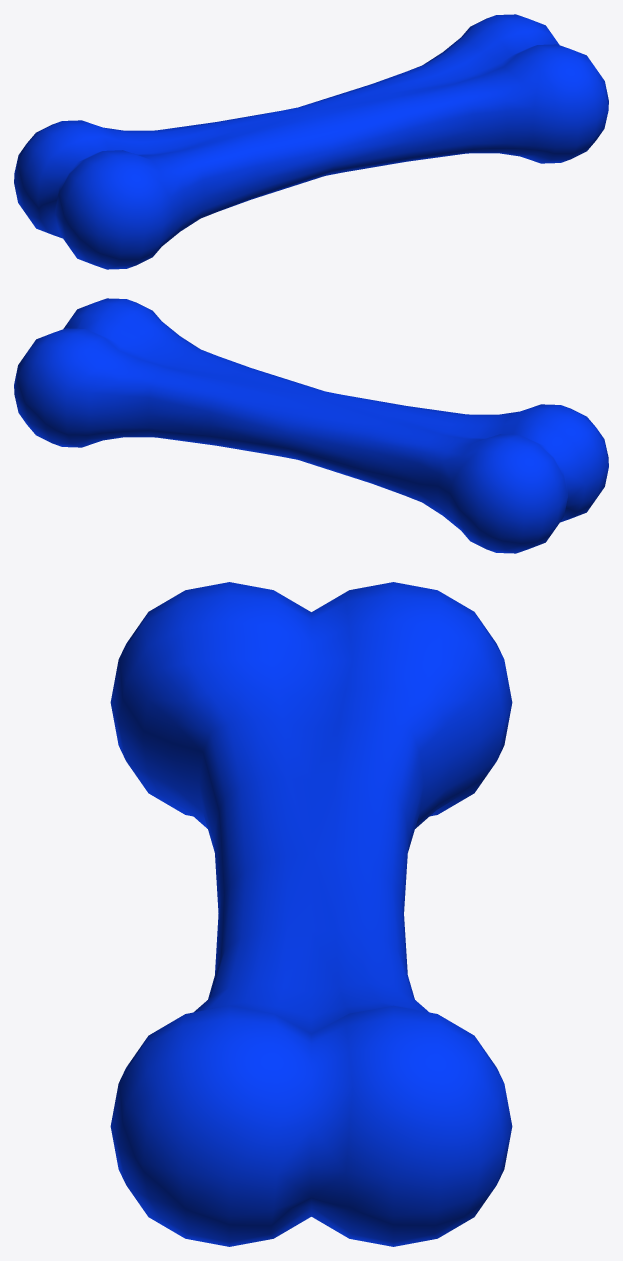
The model's file is SM_FP_Bone.fbx.
3 renders of one model, top to bottom at view 1: azimuth 30°, elevation 25°; view 2: azimuth 150°, elevation 25°; view 3: azimuth 270°, elevation 25°, orthographic. The views are drawn at different scales.
Visible parts, largest first — view 1: SM_FP_Bone; view 2: SM_FP_Bone; view 3: SM_FP_Bone.
Part boxes in pixels (box(x1,y1,x2,y2)): SM_FP_Bone: box(14, 14, 608, 269); SM_FP_Bone: box(14, 298, 608, 553); SM_FP_Bone: box(110, 582, 512, 1246).
Size of the model in its own units: 44.43 by 8.51 by 14.39.
